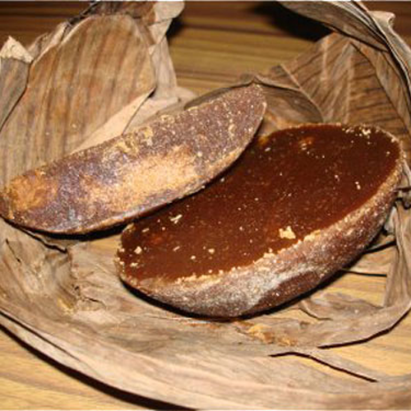hakuru: (110, 121, 406, 318), (1, 79, 264, 239)
